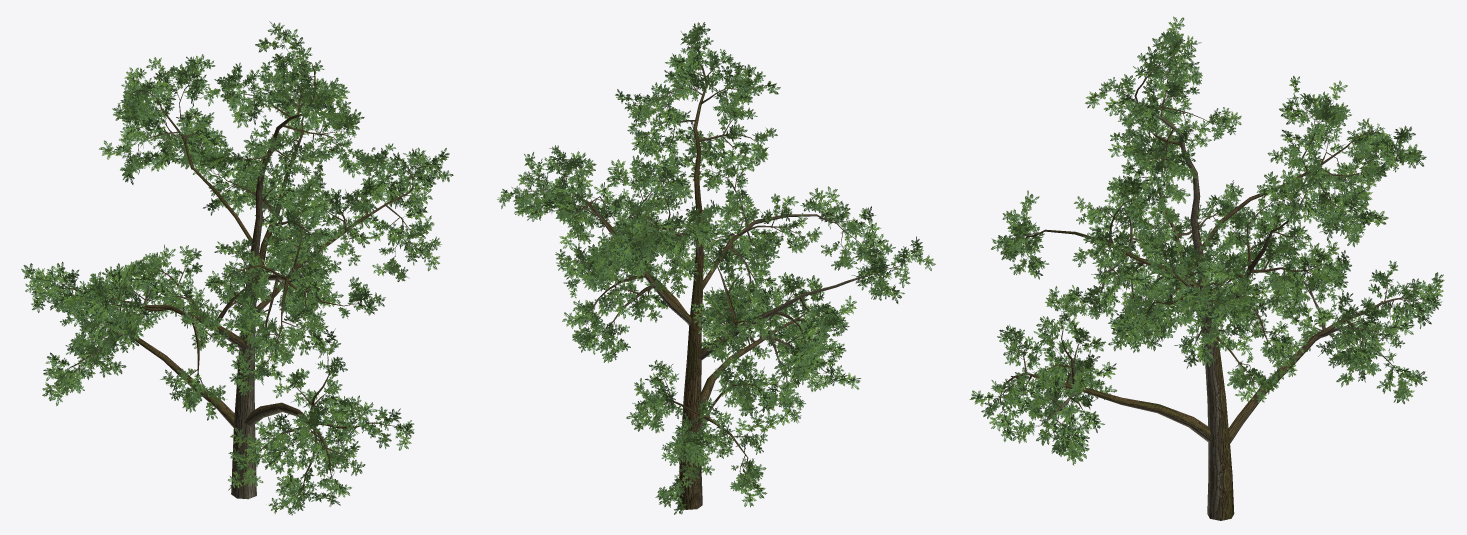
File: tree_ash.glb
3 views of the same model, side by side, from view 1: azimuth 30°, elevation 25°; view 2: azimuth 150°, elevation 25°; view 3: azimuth 270°, elevation 25° (orthographic). The views are drawn at different scales.
Visible parts, largest first — view 1: Tree; view 2: Tree; view 3: Tree.
Boxes of the visible parts, x1,y1,x2,y2 form: Tree: (21,21,453,515); Tree: (497,22,935,514); Tree: (969,16,1444,520).
Bounding box in the file's own units: 9.16 × 10.55 × 9.1.
Materials: 2 (2 with a texture image).
